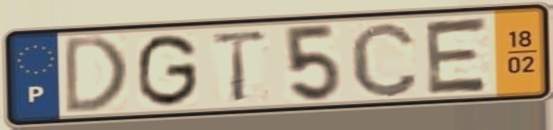5: (279, 20, 346, 105)
C: (347, 19, 422, 100)
D: (61, 32, 131, 118)
E: (422, 14, 492, 97)
G: (134, 31, 201, 110)
T: (208, 28, 271, 106)
